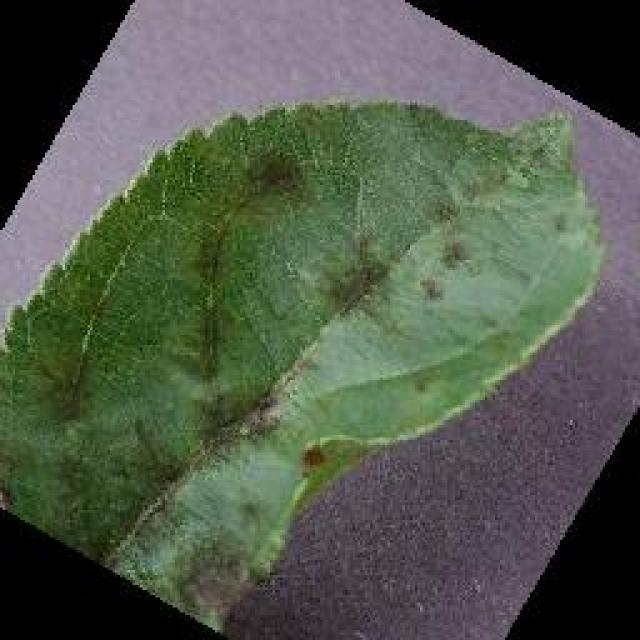apple scab disease: (0, 93, 608, 635)
